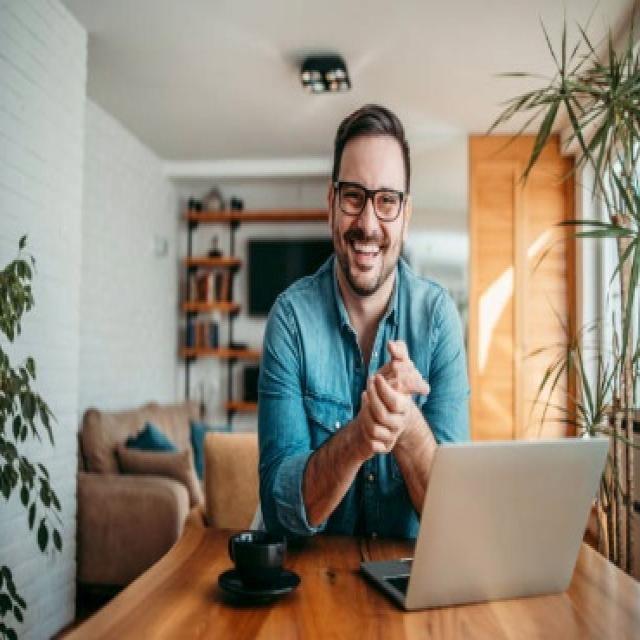adult: (256, 92, 464, 536)
